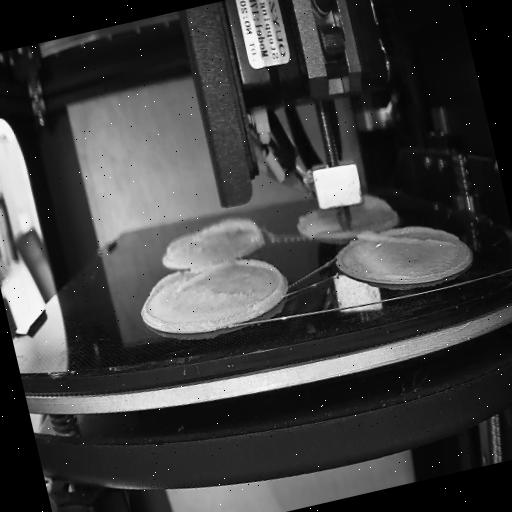over_extrusion: (358, 213, 454, 267), (231, 248, 289, 312), (200, 211, 267, 252), (148, 270, 188, 298), (362, 190, 392, 216), (164, 231, 196, 254)
